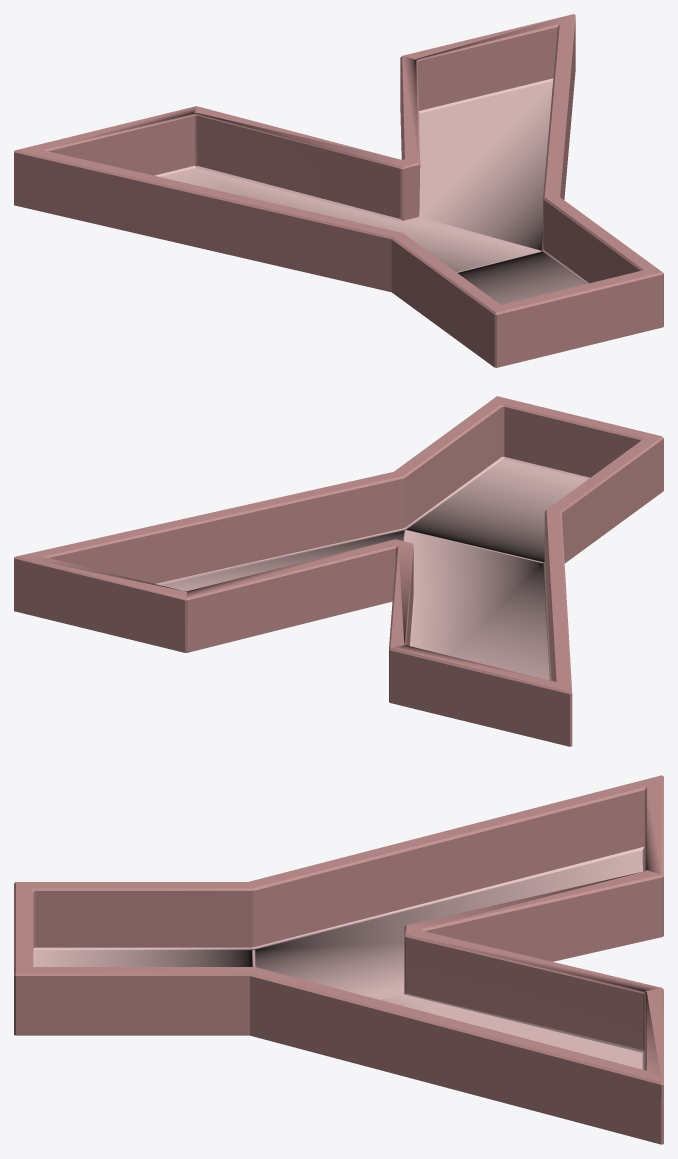
3 views of the same model, one above another, from view 1: azimuth 30°, elevation 25°; view 2: azimuth 150°, elevation 25°; view 3: azimuth 270°, elevation 25° (orthographic). The views are drawn at different scales.
Parts seen in each view (by area): view 1: Table_Y; view 2: Table_Y; view 3: Table_Y.
Part boxes in pixels (box(x1,y1,x2,y2)): Table_Y: box(14, 14, 663, 367); Table_Y: box(14, 396, 663, 746); Table_Y: box(14, 775, 663, 1144).
Size of the model in its own units: 10.51 by 0.9756 by 9.34.
